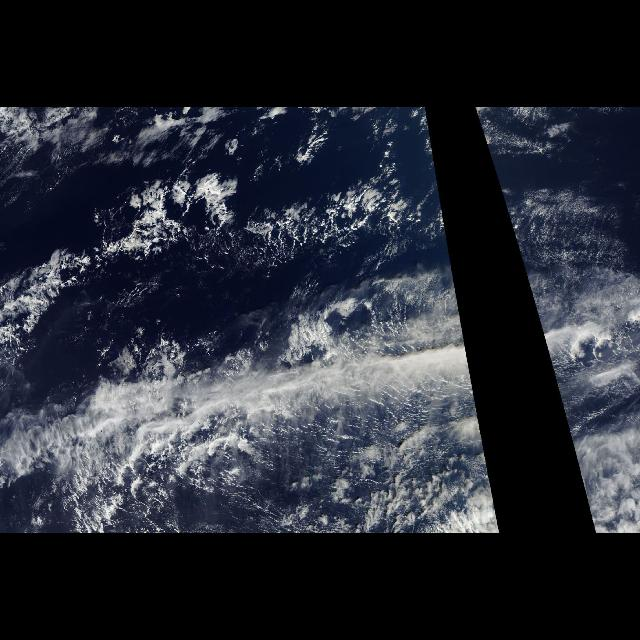Fish: (0, 167, 454, 347)
Gravel: (276, 180, 452, 266)
Sugar: (46, 146, 468, 364)
